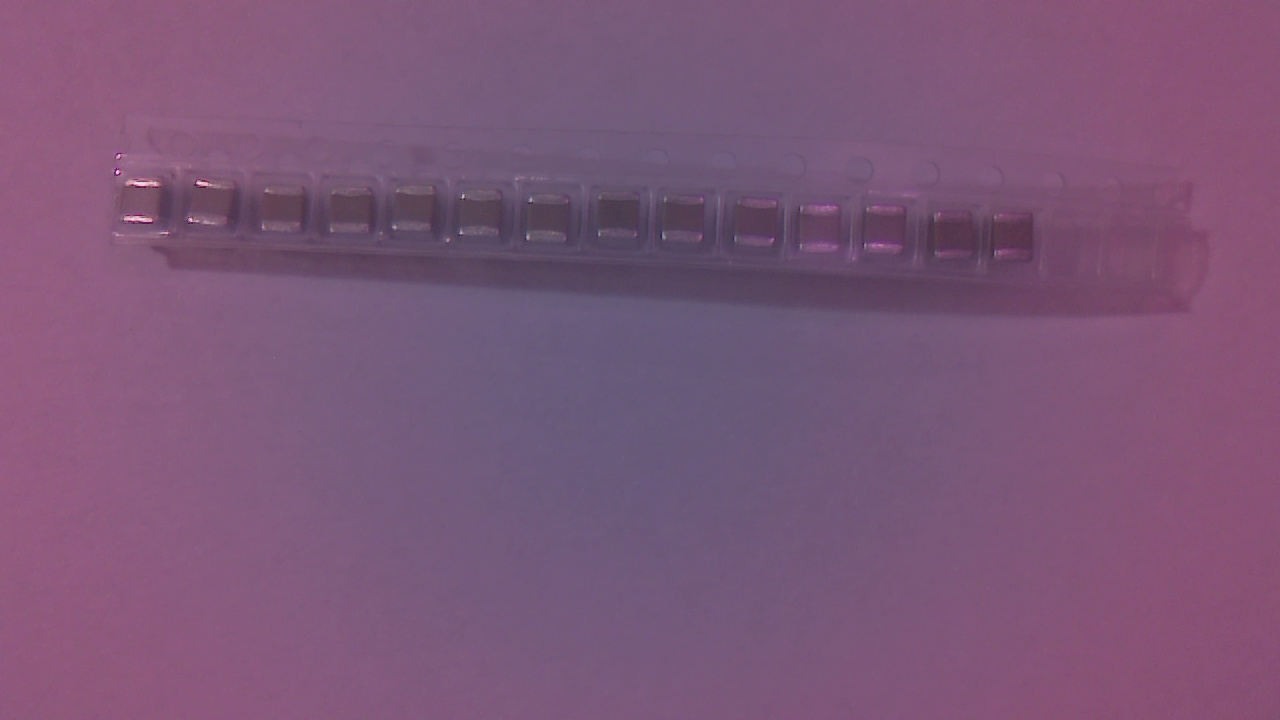Condensator: (192, 180, 243, 235), (330, 189, 380, 243), (121, 179, 171, 233), (397, 188, 446, 243), (528, 197, 577, 250), (461, 194, 511, 245), (735, 201, 783, 254), (801, 207, 847, 262), (866, 207, 910, 264), (263, 187, 313, 237), (600, 195, 647, 248), (666, 198, 711, 252), (936, 213, 979, 268), (997, 215, 1041, 266)
